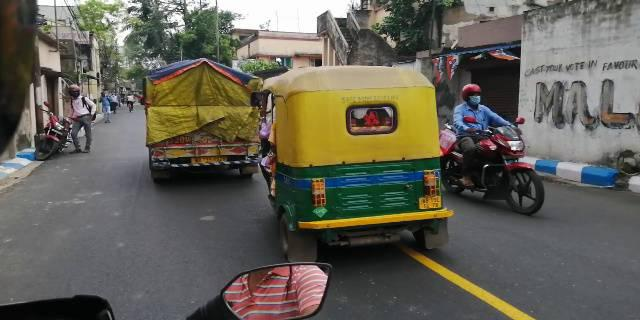Autorickshaw: (254, 63, 445, 267)
Minitruck: (141, 56, 260, 185)
Motorbike: (438, 80, 547, 218), (35, 107, 72, 164)
